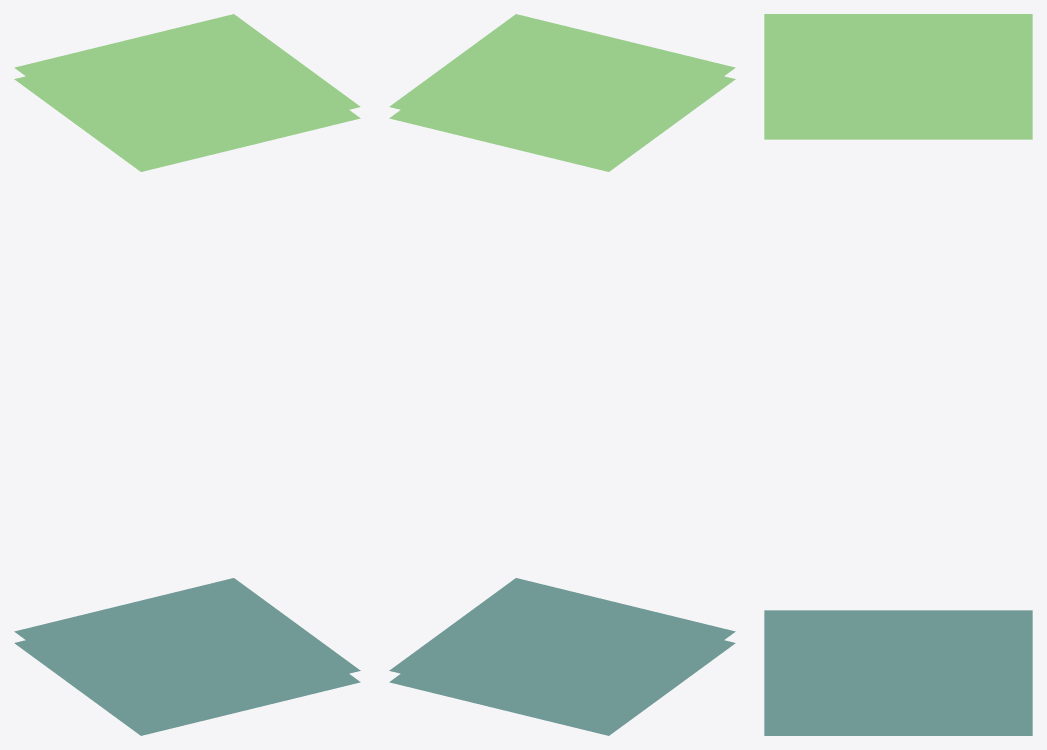
Rendered from Wall_1x1_no_sides.fbx.
3 renders of one model, left to right at view 1: azimuth 30°, elevation 25°; view 2: azimuth 150°, elevation 25°; view 3: azimuth 270°, elevation 25°, orthographic. The views are drawn at different scales.
Parts seen in each view (by area): view 1: Wall_1x1_no_sides; view 2: Wall_1x1_no_sides; view 3: Wall_1x1_no_sides.
Boxes of the visible parts, x1,y1,x2,y2 form: Wall_1x1_no_sides: (14,14,360,735); Wall_1x1_no_sides: (389,14,735,735); Wall_1x1_no_sides: (764,14,1032,735).
Size of the model in its own units: 1 by 2.5 by 1.
